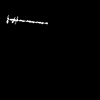treble_crochet: (7, 18, 47, 23)
